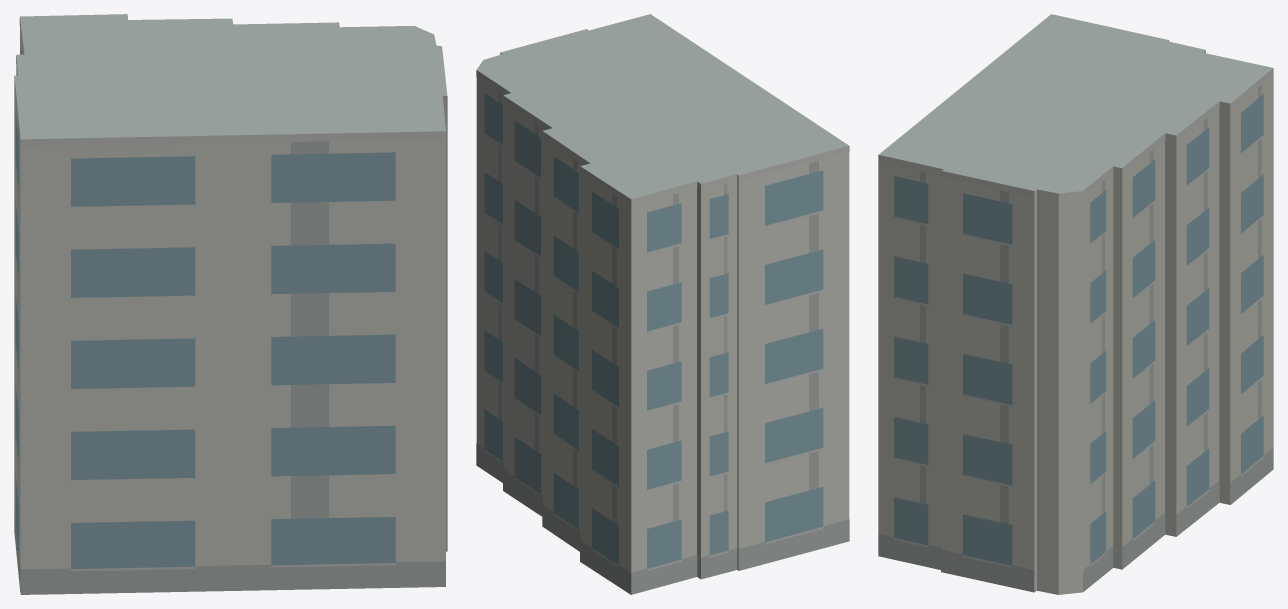
Rendered from survey-upis-32542576.glb.
3 renders of one model, left to right at view 1: azimuth 30°, elevation 25°; view 2: azimuth 150°, elevation 25°; view 3: azimuth 270°, elevation 25°, orthographic. The views are drawn at different scales.
Visible parts, largest first — view 1: survey-upis-32542576.tmp; view 2: survey-upis-32542576.tmp; view 3: survey-upis-32542576.tmp.
Part boxes in pixels (x1=…): survey-upis-32542576.tmp: x1=14, y1=14, x2=447, y2=594; survey-upis-32542576.tmp: x1=476, y1=14, x2=849, y2=594; survey-upis-32542576.tmp: x1=878, y1=14, x2=1273, y2=594.
Bounding box in the file's own units: 13.72 × 14.3 × 12.77.
